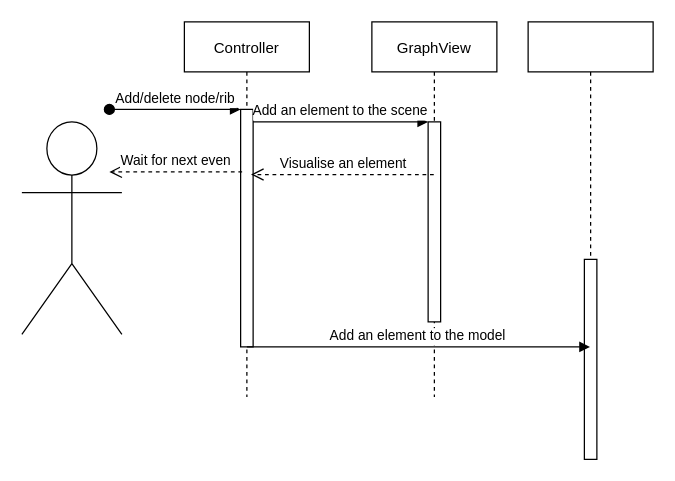
Some shapes in this 675 by 481 pixel diagram are drawn without their labels. The box of each missing label's shape, as (x1, y1, x2, y2) in pixels:
Actor: (21, 121, 122, 334)
Graph: (527, 21, 653, 397)
